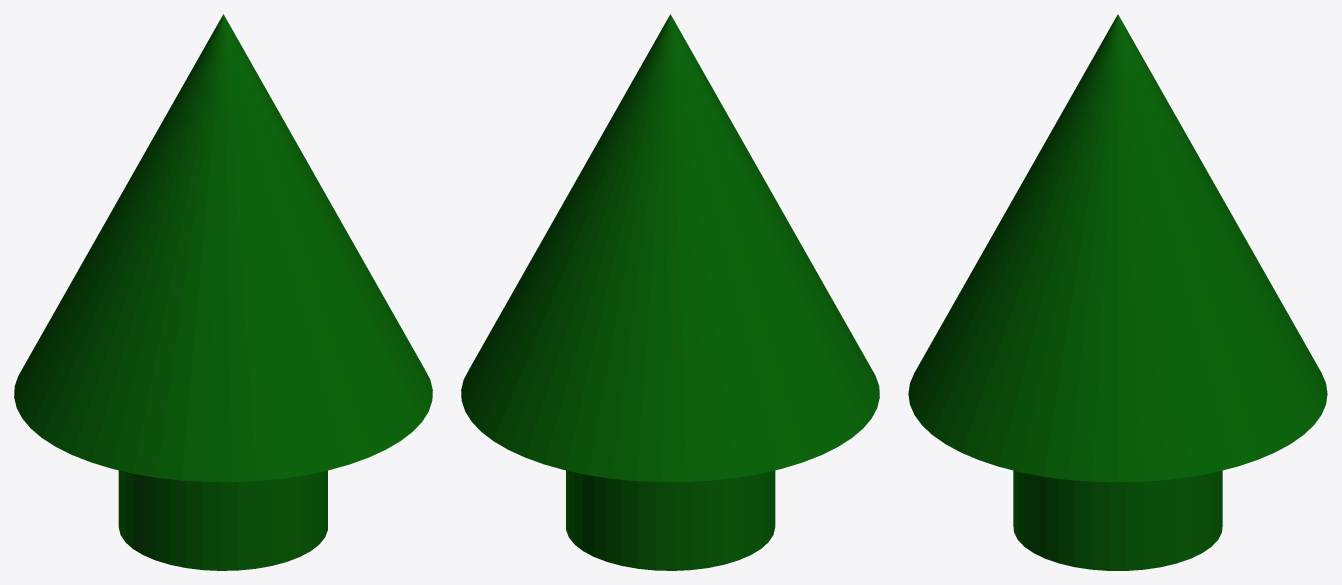
Rendered from Tree.fbx.
The picture shows the model from 3 angles, left to right: view 1: azimuth 30°, elevation 25°; view 2: azimuth 150°, elevation 25°; view 3: azimuth 270°, elevation 25°; orthographic projection.
Parts seen in each view (by area): view 1: Tree__1_; view 2: Tree__1_; view 3: Tree__1_.
Part boxes in pixels (x1,y1,x2,y2): Tree__1_: (14, 14, 432, 570); Tree__1_: (461, 14, 879, 570); Tree__1_: (908, 14, 1327, 570).
Size of the model in its own units: 125 by 169 by 125.
